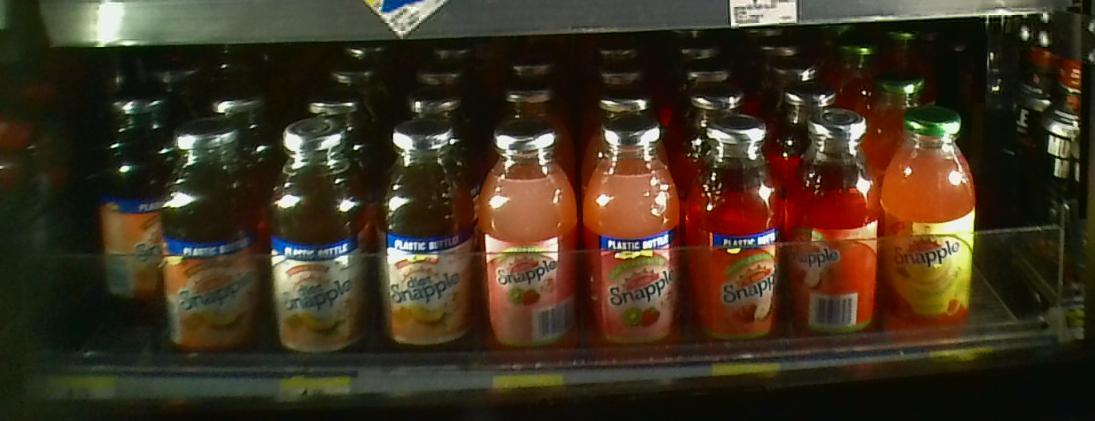bottle: (262, 116, 375, 358), (377, 112, 475, 356), (881, 102, 979, 346), (579, 118, 681, 348), (682, 119, 786, 343), (478, 118, 578, 350), (164, 118, 259, 354), (786, 105, 883, 334), (88, 88, 164, 312)
